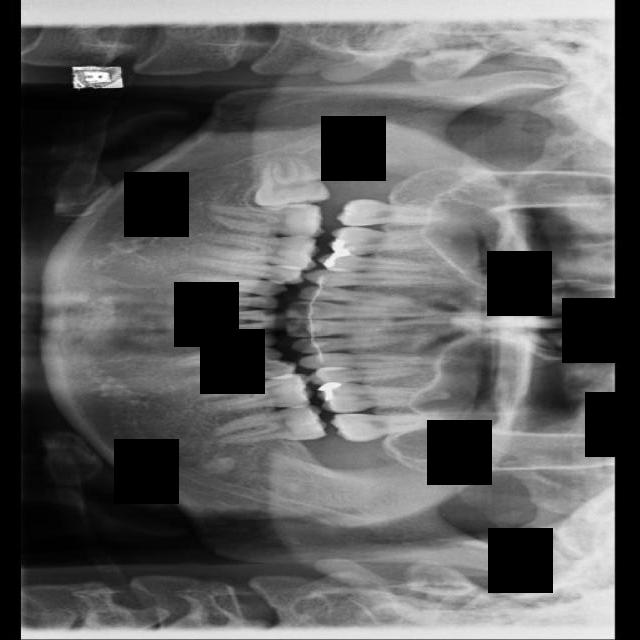52: (328, 224, 377, 257), (315, 382, 366, 413), (315, 252, 358, 273)
73: (80, 606, 104, 618)
BioHorizons Implant: (329, 412, 449, 445)
Blue Sky Bio Implant: (213, 403, 327, 444)
Caries: (334, 195, 450, 227)
Implant: (208, 204, 324, 239)
Keystone Dental Implant: (252, 156, 330, 213)
